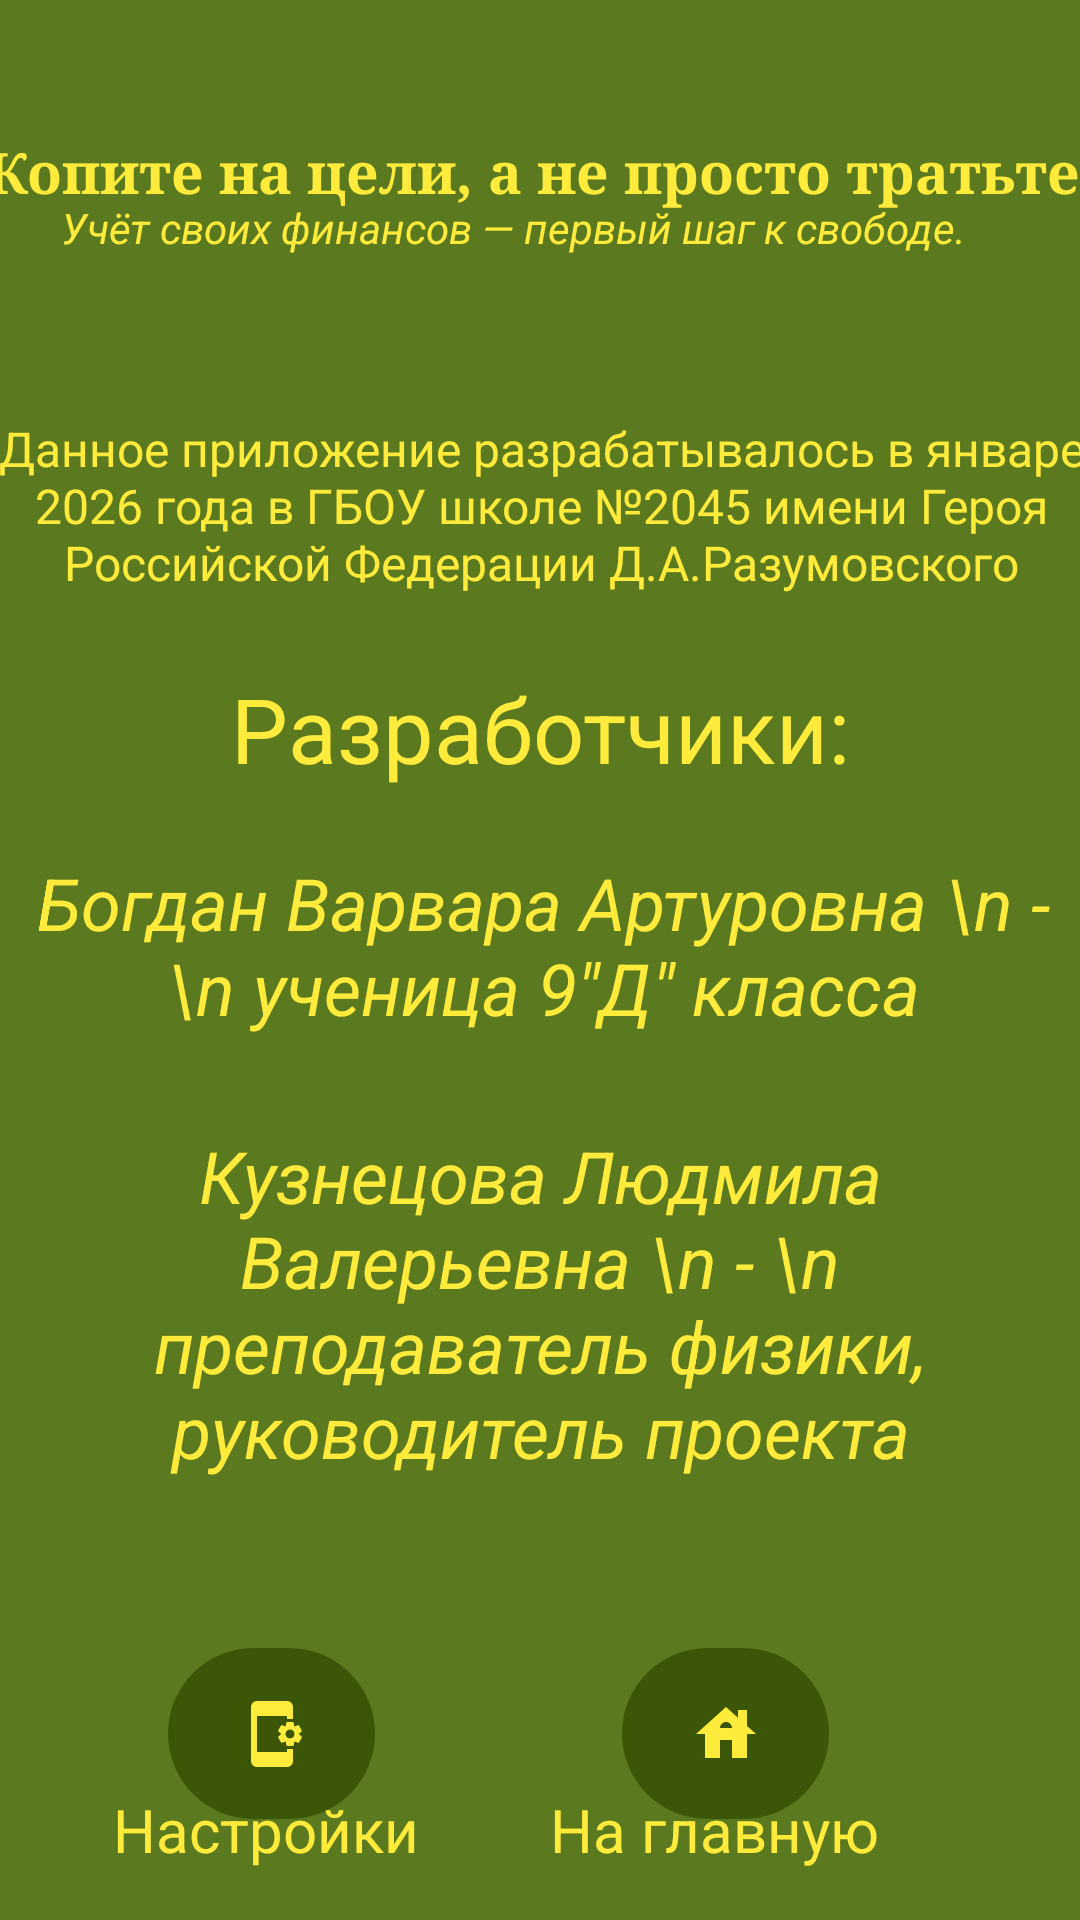

Where icons sit on this 1080px x 1920px app screen, as (x1, y1, x2, y2):
house: (622, 1648, 829, 1819)
